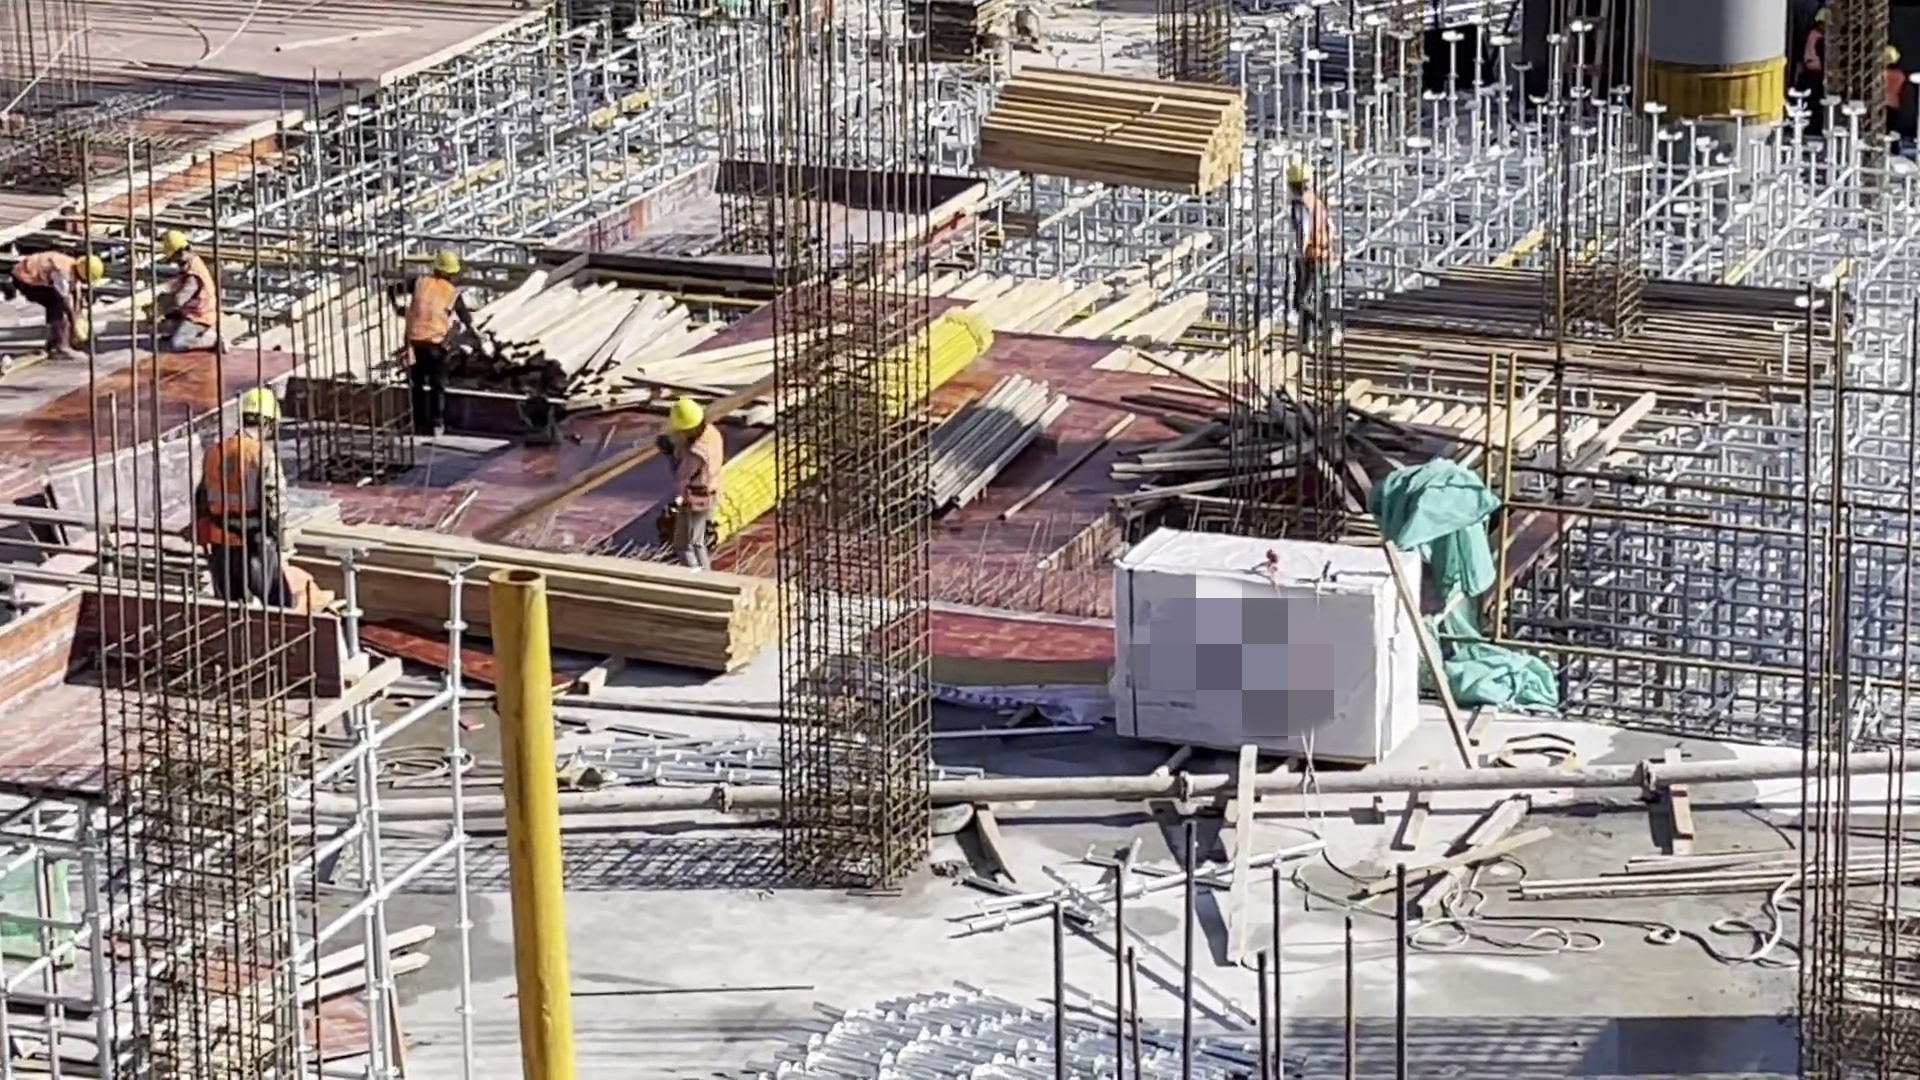helmet: (151, 223, 194, 261), (665, 391, 708, 428), (433, 243, 468, 285), (241, 382, 280, 419), (1286, 161, 1315, 191), (80, 252, 106, 286)
person: (200, 389, 331, 612), (385, 243, 469, 441), (657, 387, 744, 567), (1281, 156, 1335, 343), (145, 228, 230, 344), (21, 230, 84, 357)
vest: (198, 434, 281, 531), (667, 428, 738, 523), (406, 273, 462, 345), (165, 248, 216, 312), (12, 242, 81, 289), (1288, 199, 1334, 251)
